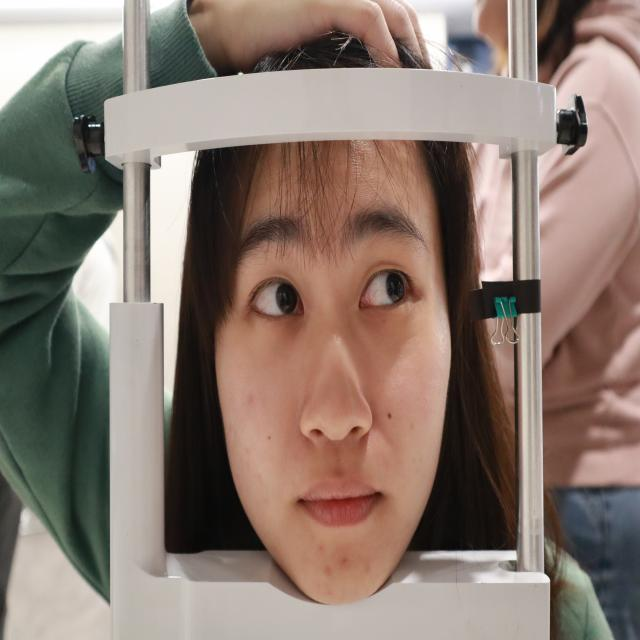eye: (353, 264, 419, 314), (242, 275, 306, 325)
gaze: (274, 280, 301, 316), (384, 272, 408, 303)
